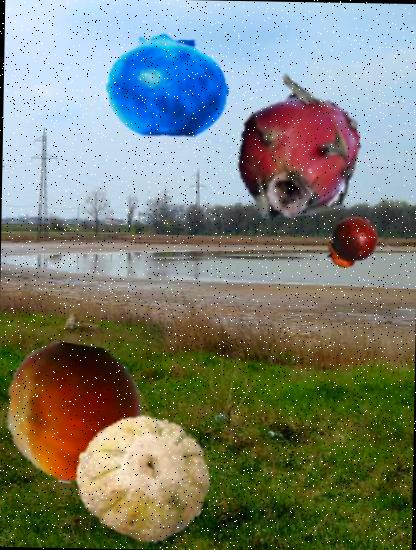Cantaloupe: (76, 408, 212, 545)
Huckleberry: (105, 22, 230, 148)
Mangostan: (323, 214, 380, 271)
Nut: (3, 343, 145, 484)
Pitahaya: (226, 89, 366, 228)
